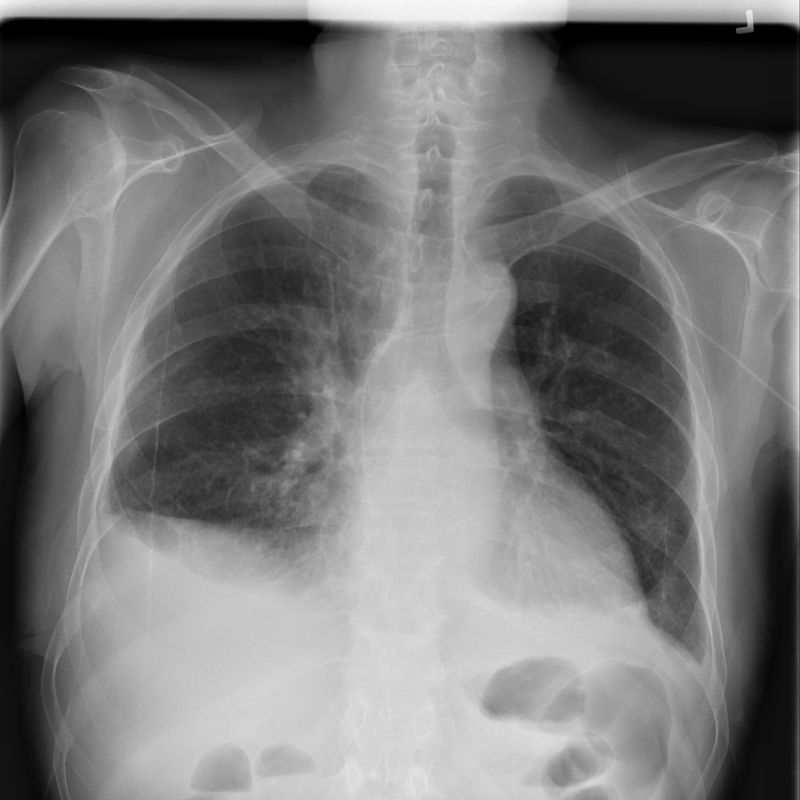PLEURAL EFFUSION: (59, 503, 213, 696)
